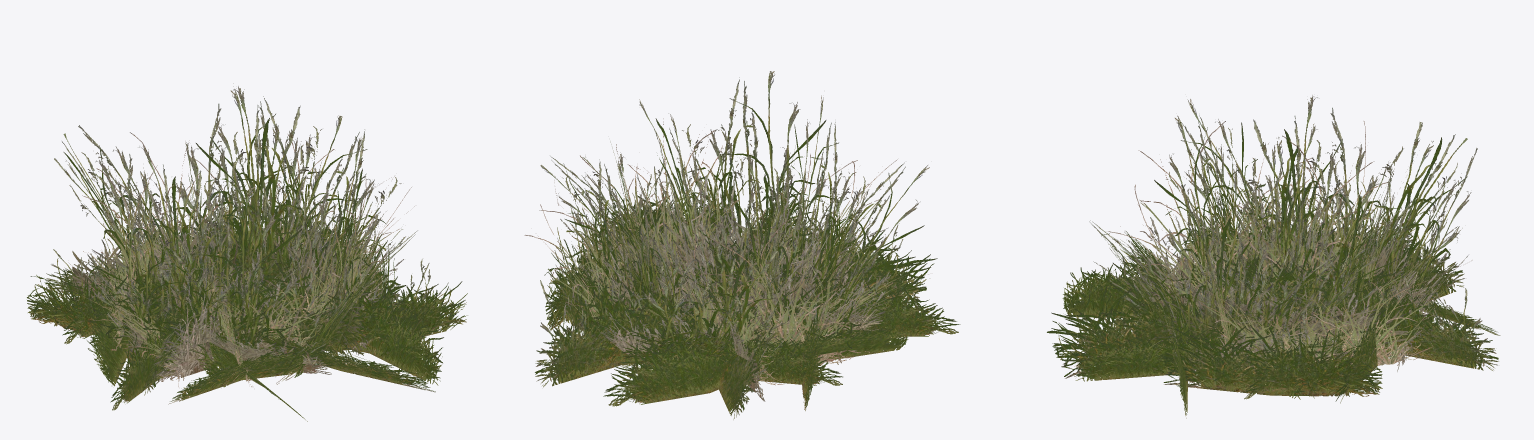
File: grass.glb
The picture shows the model from 3 angles, left to right: view 1: azimuth 30°, elevation 25°; view 2: azimuth 150°, elevation 25°; view 3: azimuth 270°, elevation 25°; orthographic projection. The views are drawn at different scales.
Parts seen in each view (by area): view 1: grass_tall_LOD0, grass_mid_LOD0, grass_dry_LOD0, grass_short_LOD0, grass_tuft_LOD0; view 2: grass_tall_LOD0, grass_mid_LOD0, grass_short_LOD0, grass_tuft_LOD0, grass_dry_LOD0; view 3: grass_tall_LOD0, grass_mid_LOD0, grass_tuft_LOD0, grass_dry_LOD0, grass_short_LOD0.
Boxes of the visible parts, left/top/right/bottom form: grass_tall_LOD0: left=54, top=83, right=417, bottom=384; grass_mid_LOD0: left=27, top=159, right=467, bottom=404; grass_dry_LOD0: left=72, top=182, right=403, bottom=386; grass_short_LOD0: left=62, top=239, right=443, bottom=421; grass_tuft_LOD0: left=63, top=132, right=414, bottom=386; grass_tall_LOD0: left=540, top=71, right=929, bottom=383; grass_mid_LOD0: left=535, top=159, right=937, bottom=419; grass_short_LOD0: left=581, top=190, right=960, bottom=406; grass_tuft_LOD0: left=524, top=118, right=928, bottom=385; grass_dry_LOD0: left=560, top=176, right=891, bottom=401; grass_tall_LOD0: left=1089, top=95, right=1477, bottom=358; grass_mid_LOD0: left=1047, top=181, right=1498, bottom=418; grass_tuft_LOD0: left=1108, top=121, right=1472, bottom=374; grass_dry_LOD0: left=1122, top=164, right=1468, bottom=371; grass_short_LOD0: left=1062, top=214, right=1500, bottom=399.
Size of what is drawn, in the model's own units: 0.9099 by 0.5643 by 1.03.
Materials: 1 (1 with a texture image).
